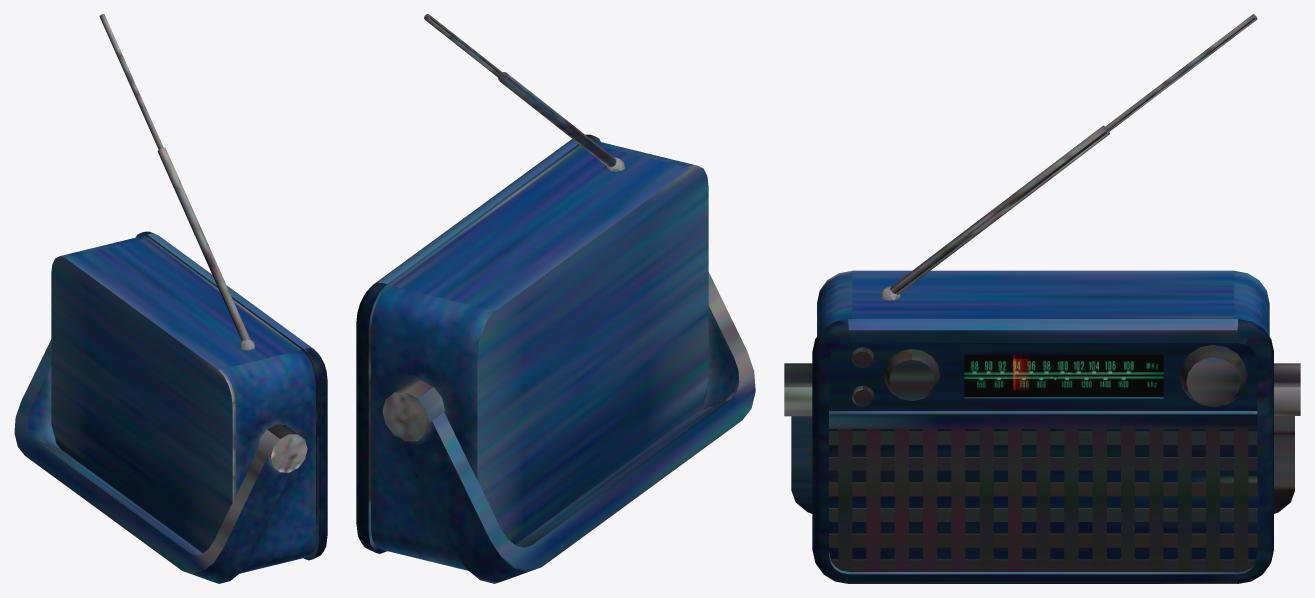
File: radio.fbx
The picture shows the model from 3 angles, left to right: view 1: azimuth 30°, elevation 25°; view 2: azimuth 150°, elevation 25°; view 3: azimuth 270°, elevation 25°; orthographic projection. The views are drawn at different scales.
Parts seen in each view (by area): view 1: Cube.002; view 2: Cube.002; view 3: Cube.002, Cube.001.
Boxes of the visible parts, x1,y1,x2,y2 form: Cube.002: (14, 14, 327, 583); Cube.002: (356, 14, 755, 583); Cube.002: (784, 14, 1300, 583); Cube.001: (964, 354, 1163, 396).
Bounding box in the file's own units: 144 × 423 × 365.
